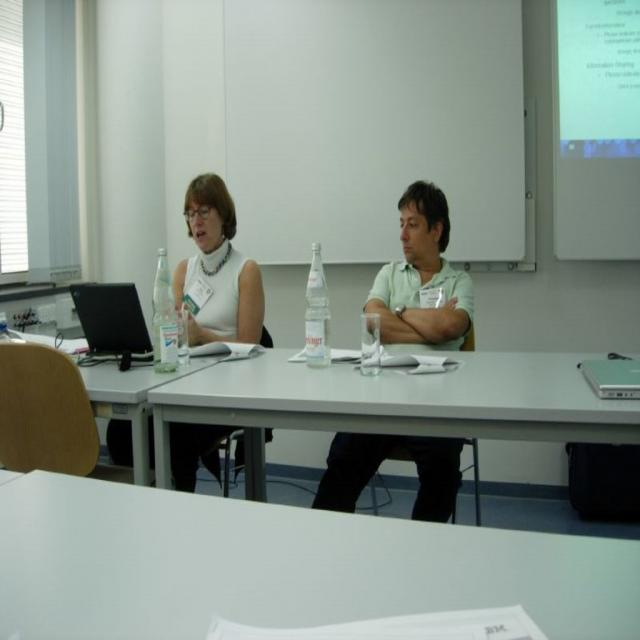chair: (0, 341, 101, 478)
desk: (44, 326, 640, 520)
laptop: (69, 282, 155, 358)
person: (311, 180, 477, 520), (159, 176, 270, 499)
